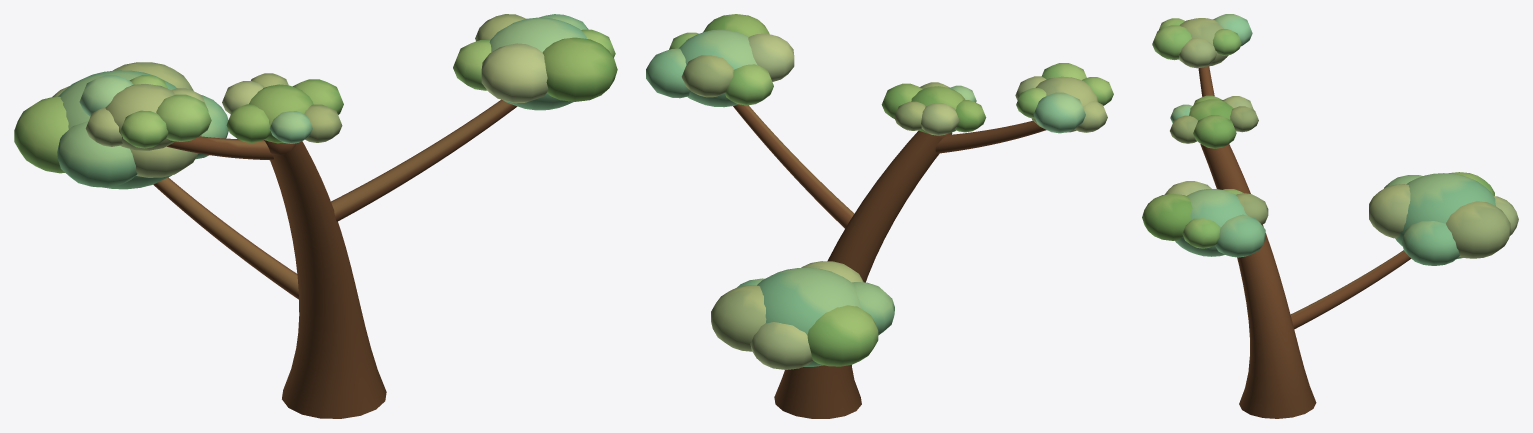
Rendered from cloud-tree-111.obj.
3 renders of one model, left to right at view 1: azimuth 30°, elevation 25°; view 2: azimuth 150°, elevation 25°; view 3: azimuth 270°, elevation 25°, orthographic. The views are drawn at different scales.
Parts seen in each view (by area): view 1: tree; view 2: tree; view 3: tree.
Boxes of the visible parts, bbox=[...] form: tree: bbox=[14, 14, 617, 418]; tree: bbox=[646, 14, 1113, 418]; tree: bbox=[1142, 14, 1518, 418].
Bounding box in the file's own units: 363 × 270 × 311.
